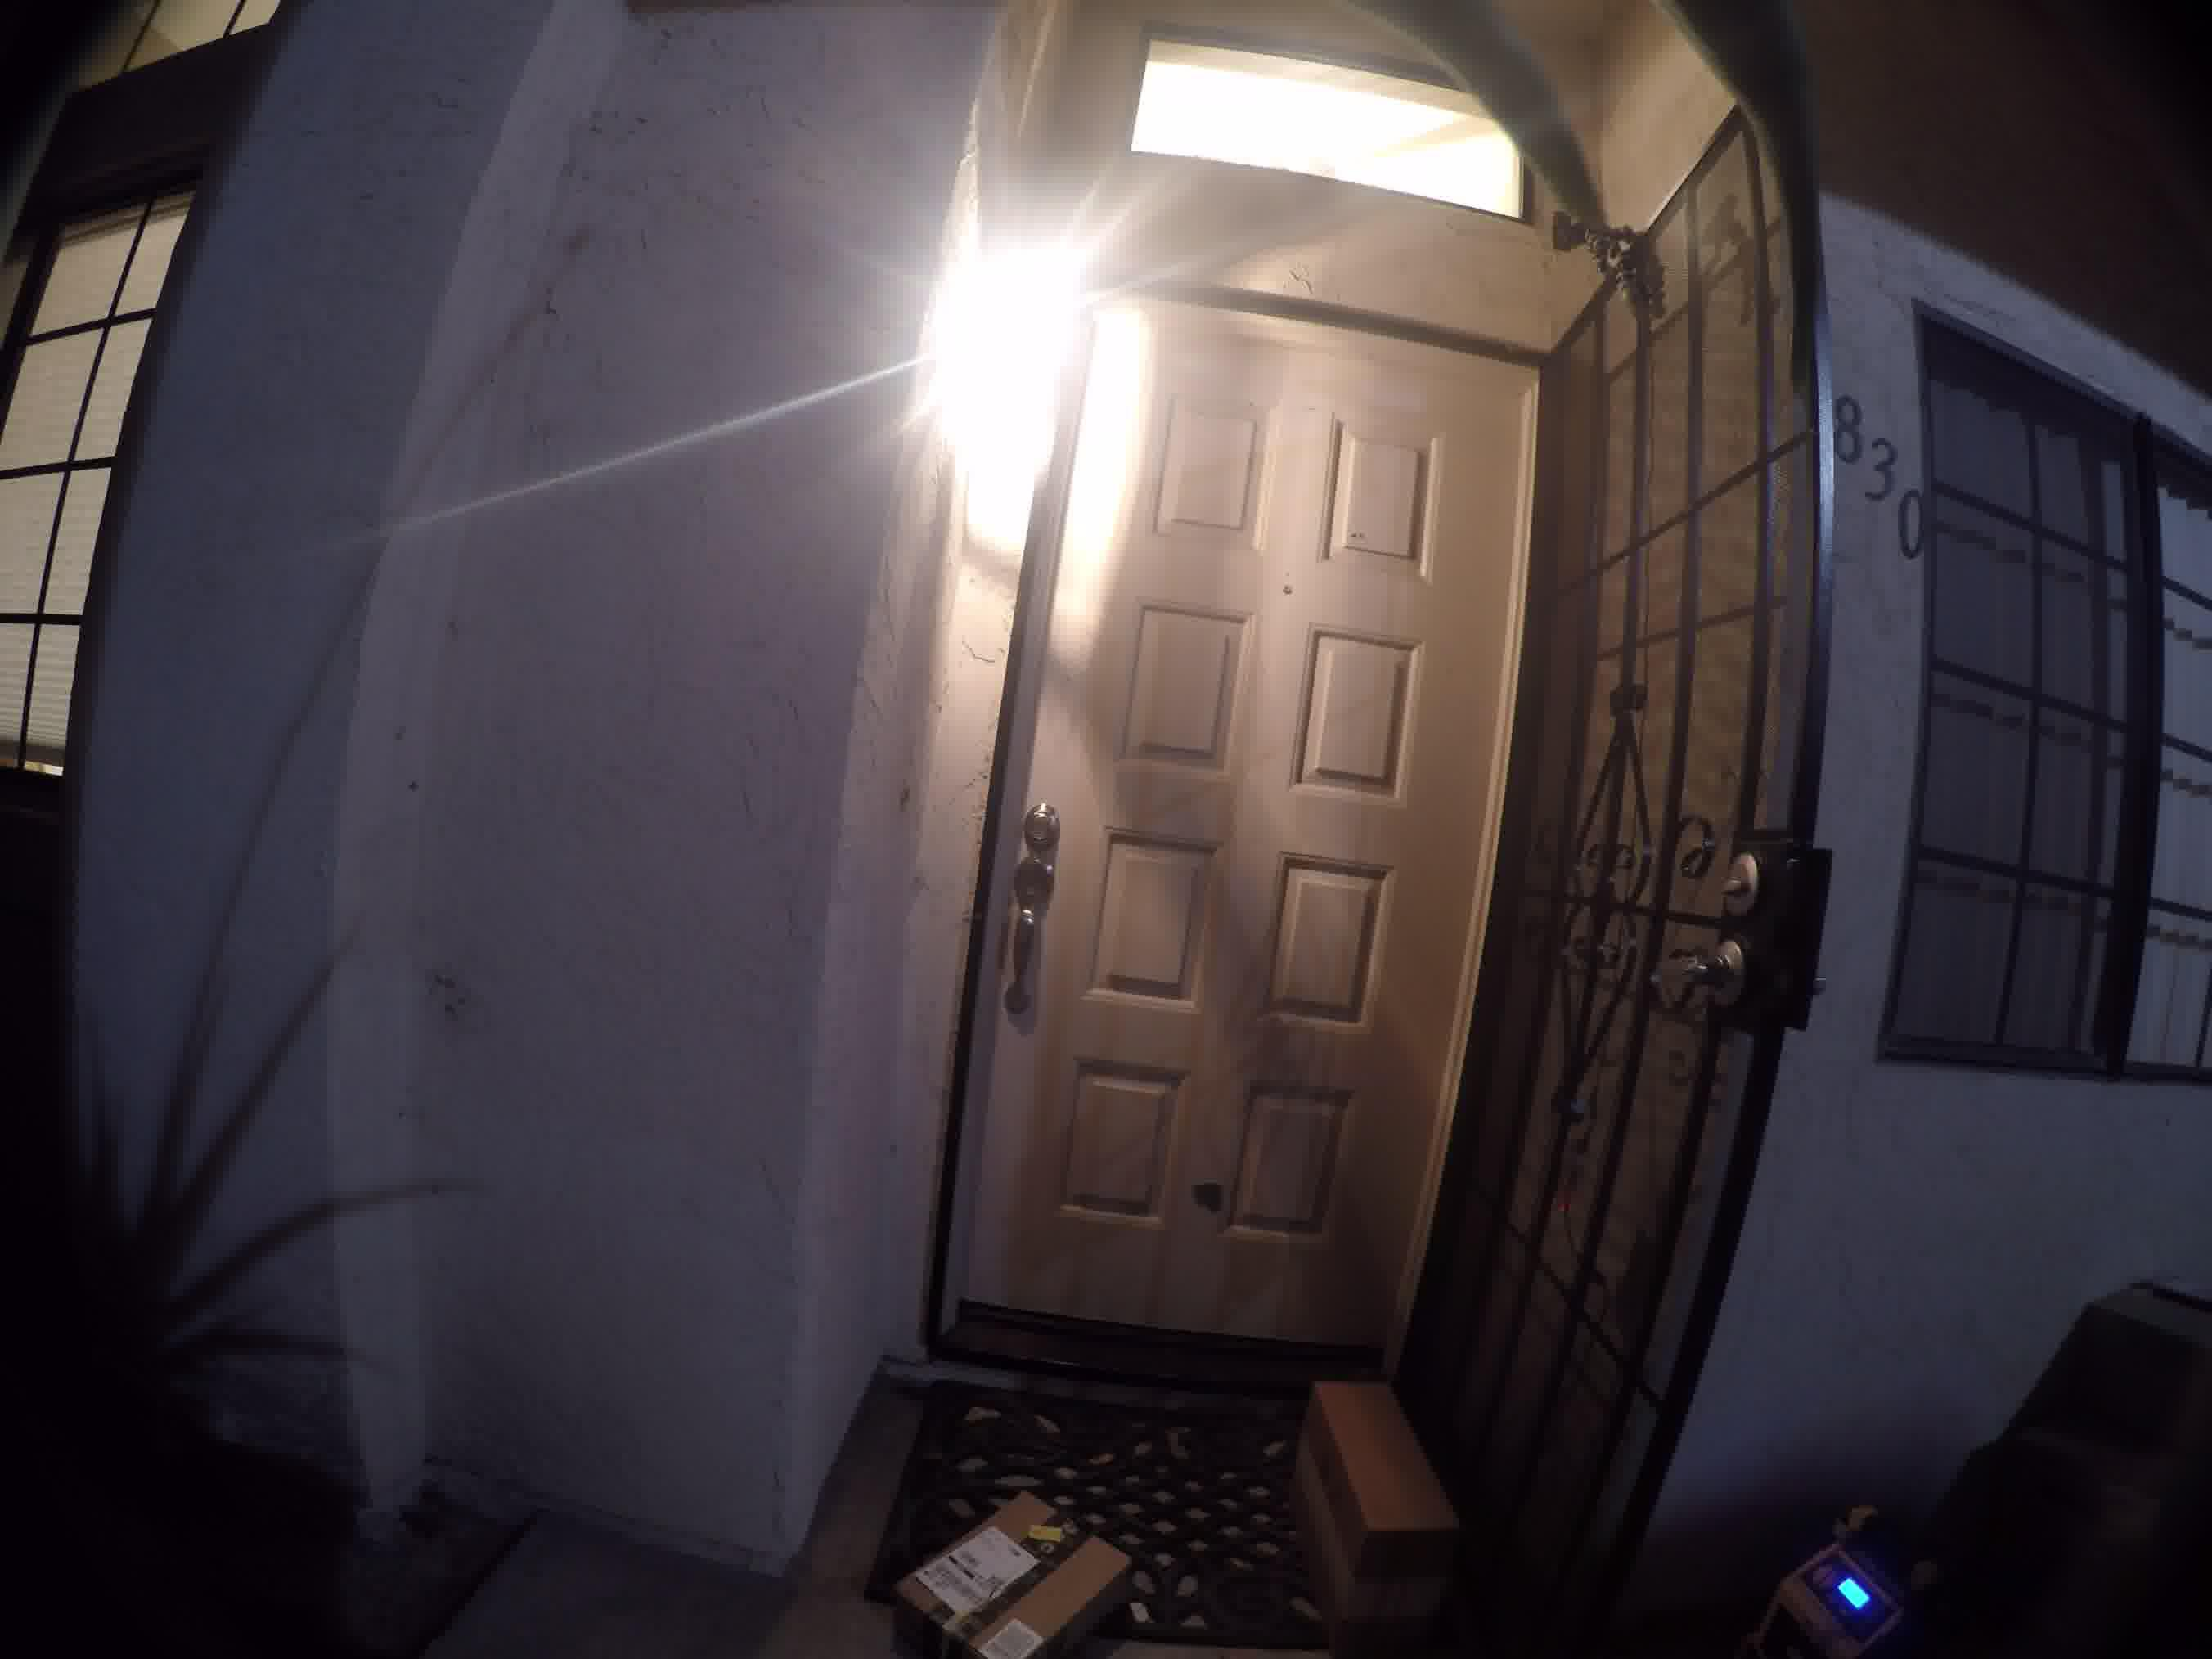box: (1287, 1347, 1460, 1601), (904, 1478, 1139, 1656)
